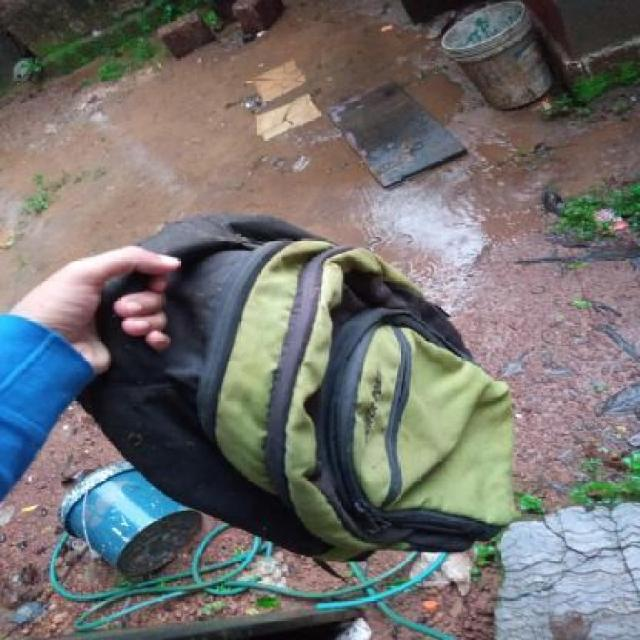backpack: (70, 209, 528, 569)
